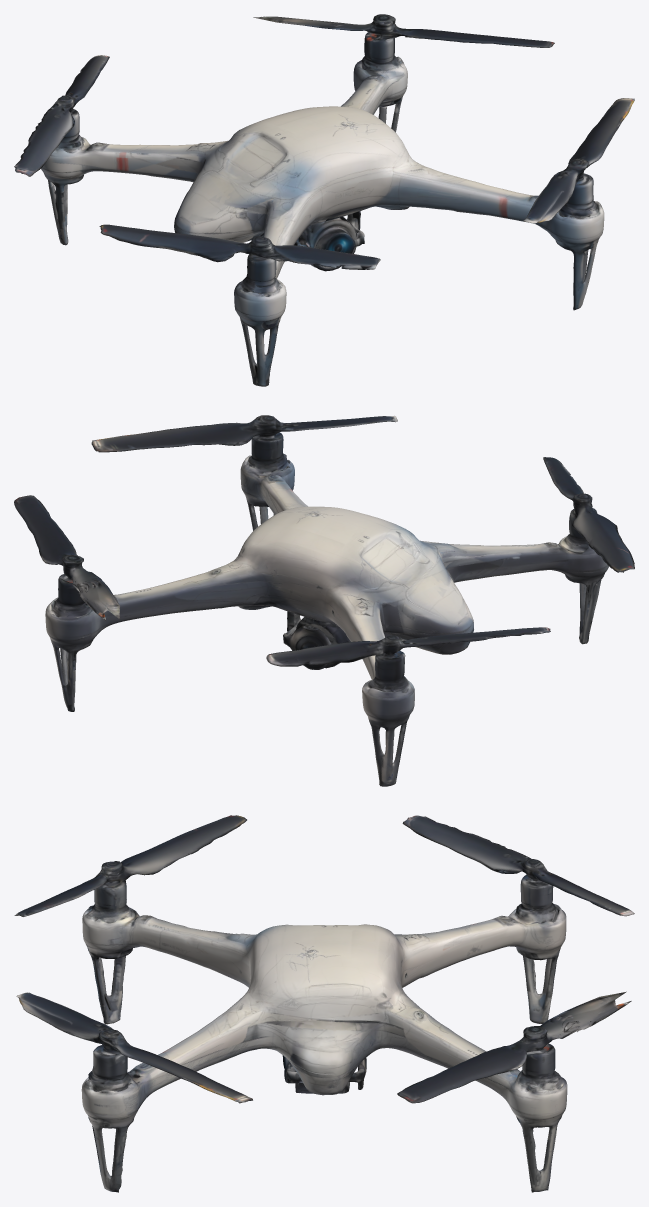
The model's file is dronebranco.glb.
The picture shows the model from 3 angles, top to bottom: view 1: azimuth 30°, elevation 25°; view 2: azimuth 150°, elevation 25°; view 3: azimuth 270°, elevation 25°; orthographic projection. The views are drawn at different scales.
Parts seen in each view (by area): view 1: Mesh1_Mesh1.024; view 2: Mesh1_Mesh1.024; view 3: Mesh1_Mesh1.024.
Part boxes in pixels (x1,y1,x2,y2): Mesh1_Mesh1.024: [14, 14, 634, 386]; Mesh1_Mesh1.024: [14, 415, 634, 786]; Mesh1_Mesh1.024: [14, 815, 634, 1192].
Bounding box in the file's own units: 2.01 × 0.5395 × 1.83.
1 material, 1 textured.
